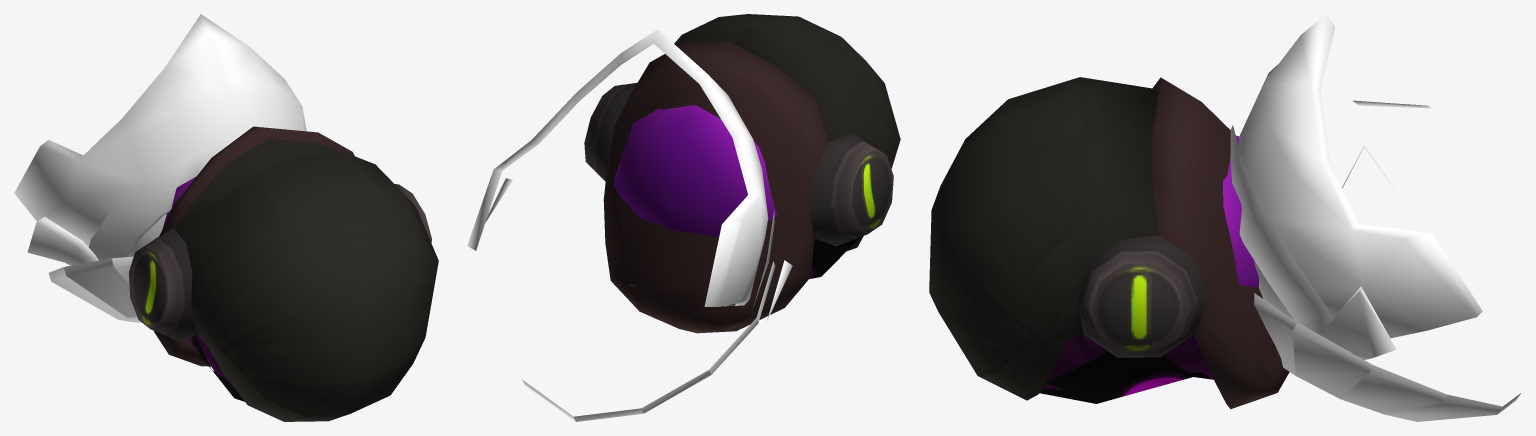
File: model_mask.glb
The picture shows the model from 3 angles, left to right: view 1: azimuth 30°, elevation 25°; view 2: azimuth 150°, elevation 25°; view 3: azimuth 270°, elevation 25°; orthographic projection. The views are drawn at different scales.
Parts seen in each view (by area): view 1: parts.model_simple-Mesh[0], mask.model_mask_highres-MeshNodes["mesh_mash"]; view 2: parts.model_simple-Mesh[0], parts.model_nobones-MeshNodes["mesh_body_lowres"], mask.model_mask_highres-MeshNodes["mesh_mash"], face.part_model_face-Mesh[0]; view 3: parts.model_simple-Mesh[0], mask.model_mask_highres-MeshNodes["mesh_mash"], face.part_model_face-Mesh[0], parts.model_nobones-MeshNodes["mesh_body_lowres"].
Boxes of the visible parts, x1,y1,x2,y2 form: parts.model_simple-Mesh[0]: (129,126,438,421); mask.model_mask_highres-MeshNodes["mesh_mash"]: (14,14,306,322); parts.model_simple-Mesh[0]: (584,14,900,333); parts.model_nobones-MeshNodes["mesh_body_lowres"]: (614,105,776,237); mask.model_mask_highres-MeshNodes["mesh_mash"]: (467,29,792,421); face.part_model_face-Mesh[0]: (809,237,860,278); parts.model_simple-Mesh[0]: (929,77,1289,409); mask.model_mask_highres-MeshNodes["mesh_mash"]: (1230,14,1520,421); face.part_model_face-Mesh[0]: (1040,351,1213,403); parts.model_nobones-MeshNodes["mesh_body_lowres"]: (1223,135,1258,287).
Bounding box in the file's own units: 0.5503 × 0.5952 × 0.8122.
Materials: 4 (3 with a texture image).
